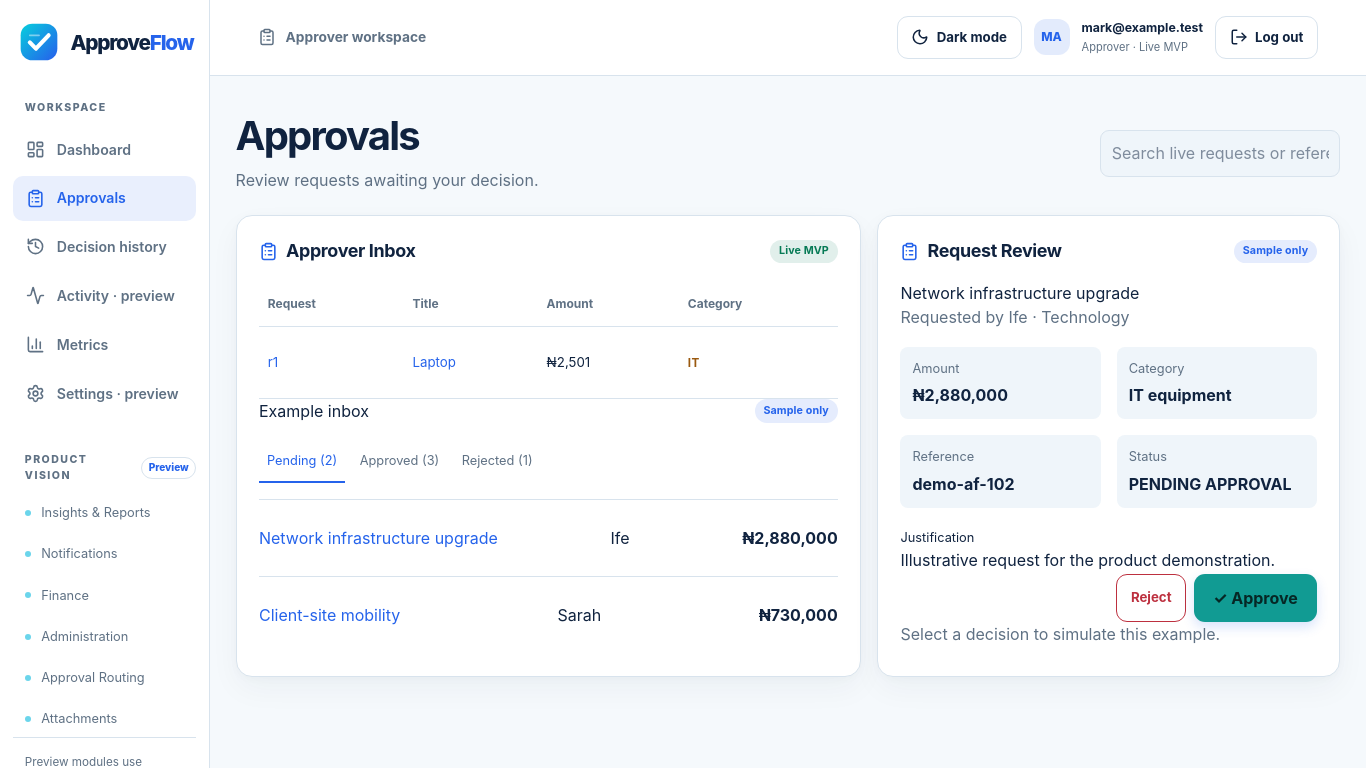
G3 user journeys › shows live history after an approver selects approve from the inbox
Click the button "Laptop" at (434, 363), box [412, 341, 456, 385]
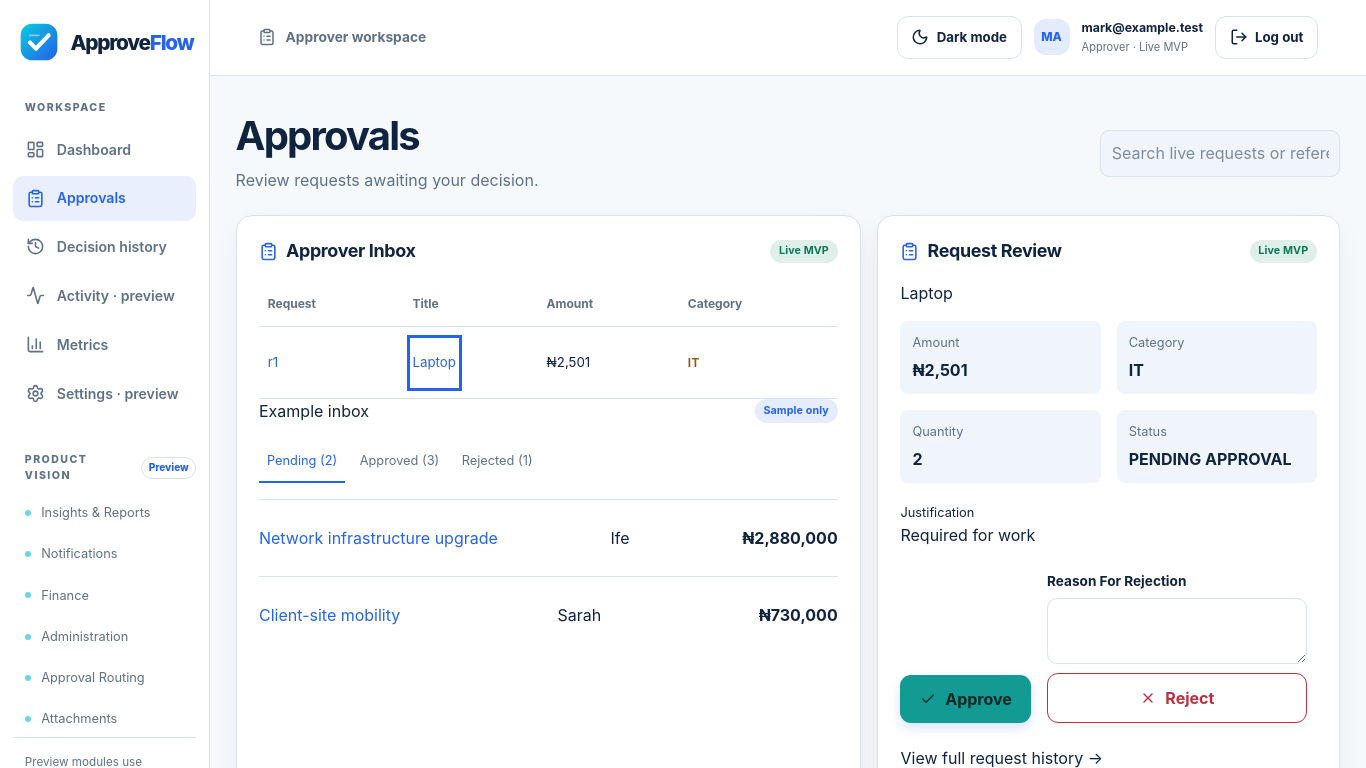
Click the button "Approve" at (966, 699), box [900, 675, 1031, 723]
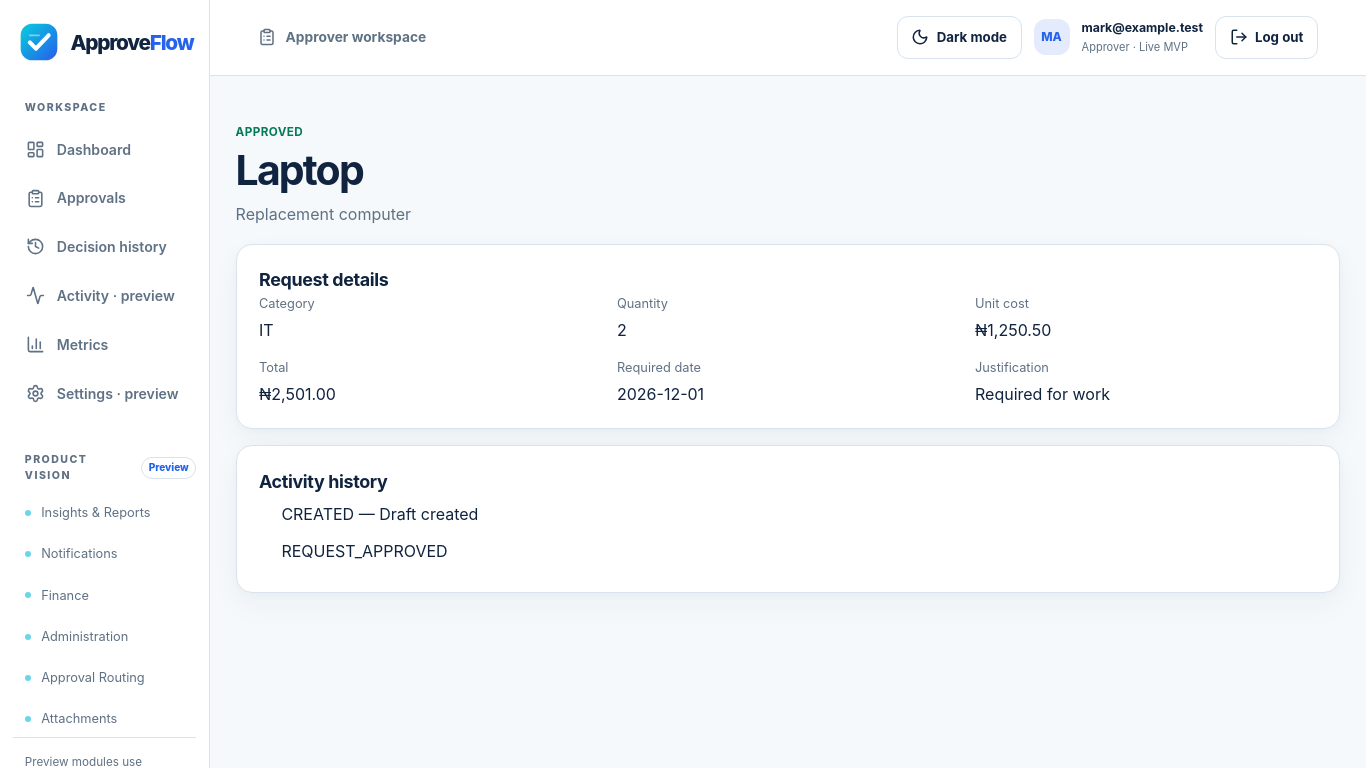
Now the text "APPROVED" is shown, box [236, 124, 303, 141]
Now the list item "REQUEST_APPROVED" is shown, box [281, 541, 448, 561]
Now the button "Network infrastructure upgrade" is gone
